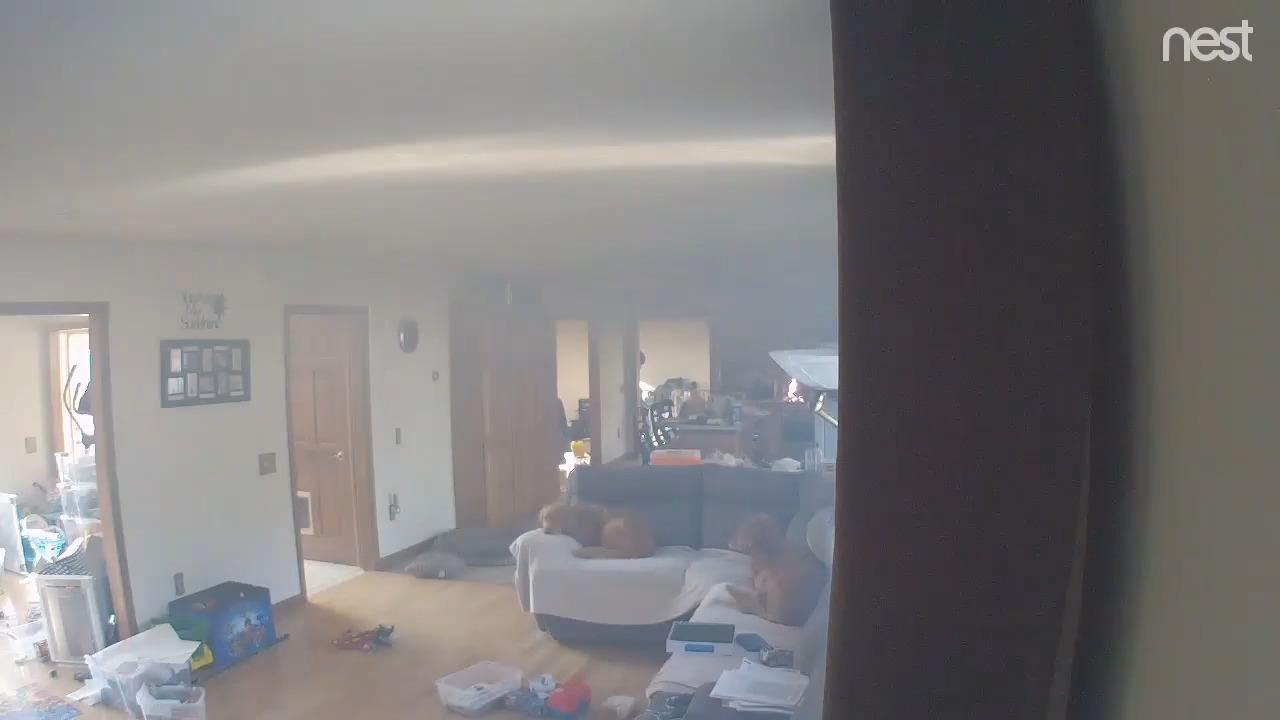fire: (787, 377, 805, 403)
